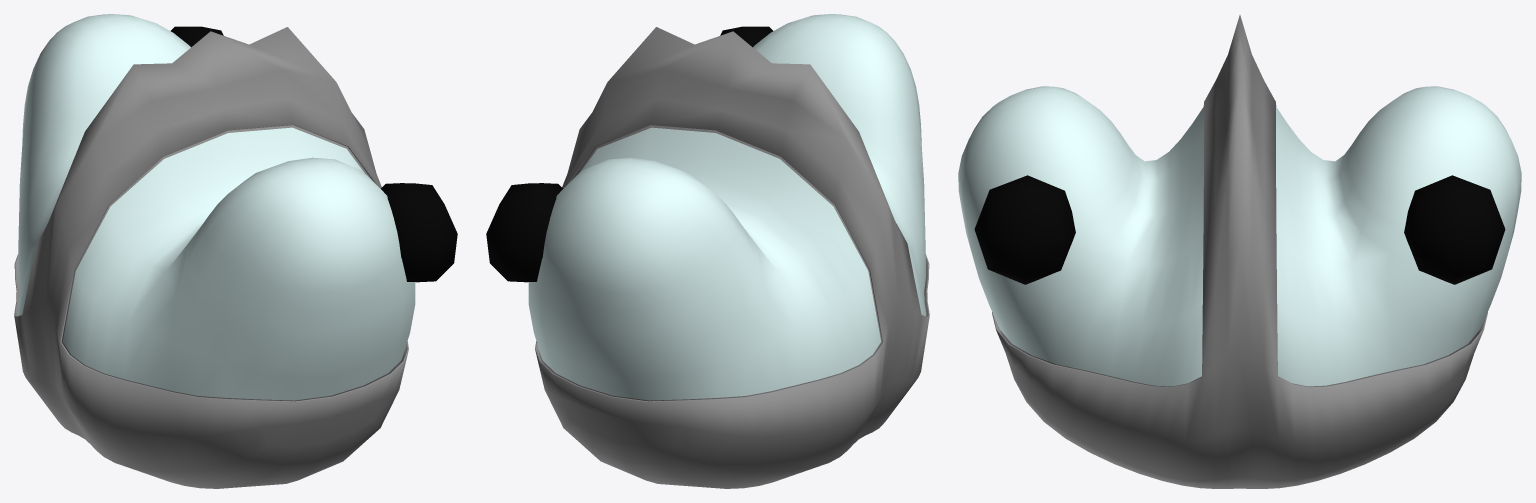
Rendered from Climber Head.fbx.
3 renders of one model, left to right at view 1: azimuth 30°, elevation 25°; view 2: azimuth 150°, elevation 25°; view 3: azimuth 270°, elevation 25°, orthographic.
Parts seen in each view (by area): view 1: Cube.026; view 2: Cube.026; view 3: Cube.026.
Part boxes in pixels (box(x1,y1,x2,y2)): Cube.026: box(14, 14, 457, 488); Cube.026: box(486, 14, 929, 488); Cube.026: box(958, 15, 1521, 488).
Bounding box in the file's own units: 200 × 242 × 287.
